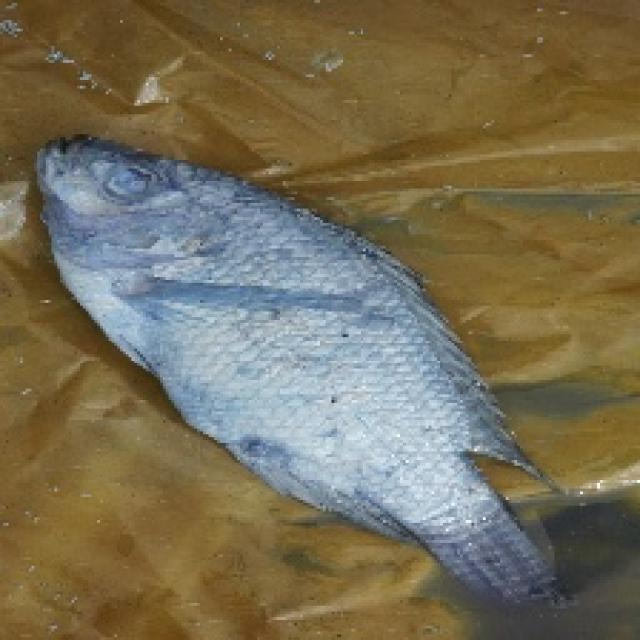Non-Fresh: (18, 117, 545, 542)
